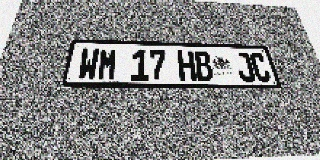1: (131, 49, 149, 81)
7: (149, 49, 167, 81)
B: (193, 51, 214, 81)
C: (249, 52, 272, 82)
H: (177, 50, 197, 81)
J: (234, 52, 256, 82)
M: (97, 48, 118, 80)
W: (77, 47, 100, 80)
